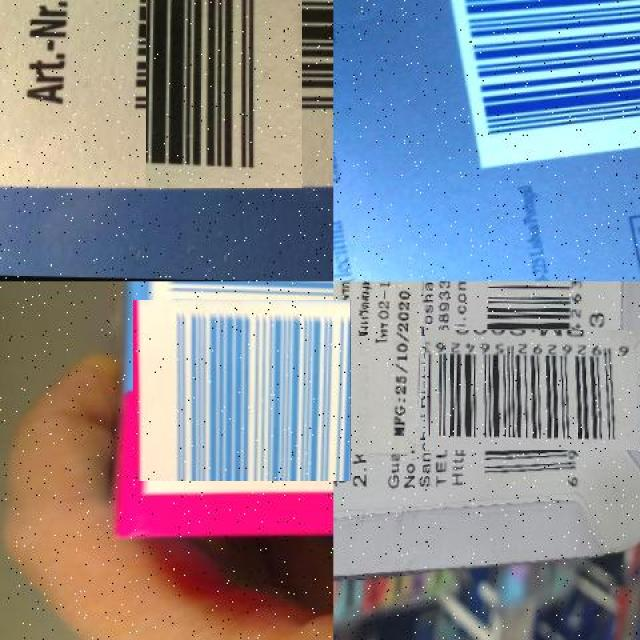Barcode: (142, 290, 342, 490), (414, 0, 640, 173), (130, 0, 319, 172), (449, 306, 618, 474)
